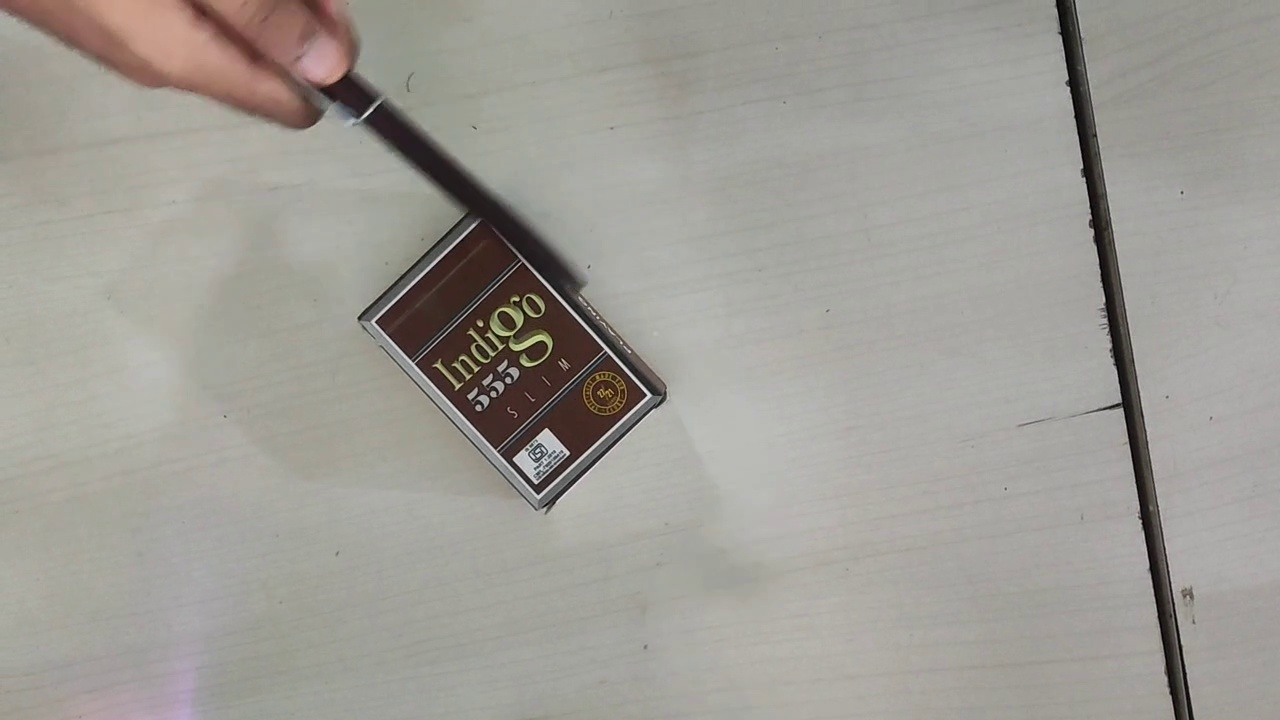BEX: (371, 215, 656, 497)
